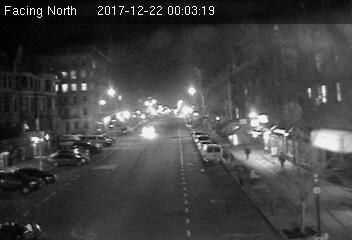pedestrian: (241, 145, 253, 164)
truck: (202, 142, 221, 165)
